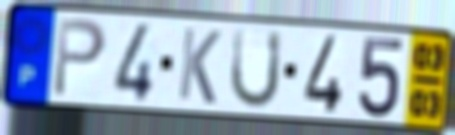4: (111, 20, 157, 105), (302, 34, 345, 115)
5: (355, 33, 407, 119)
K: (175, 24, 223, 108)
P: (50, 15, 109, 101)
U: (227, 26, 285, 112)
